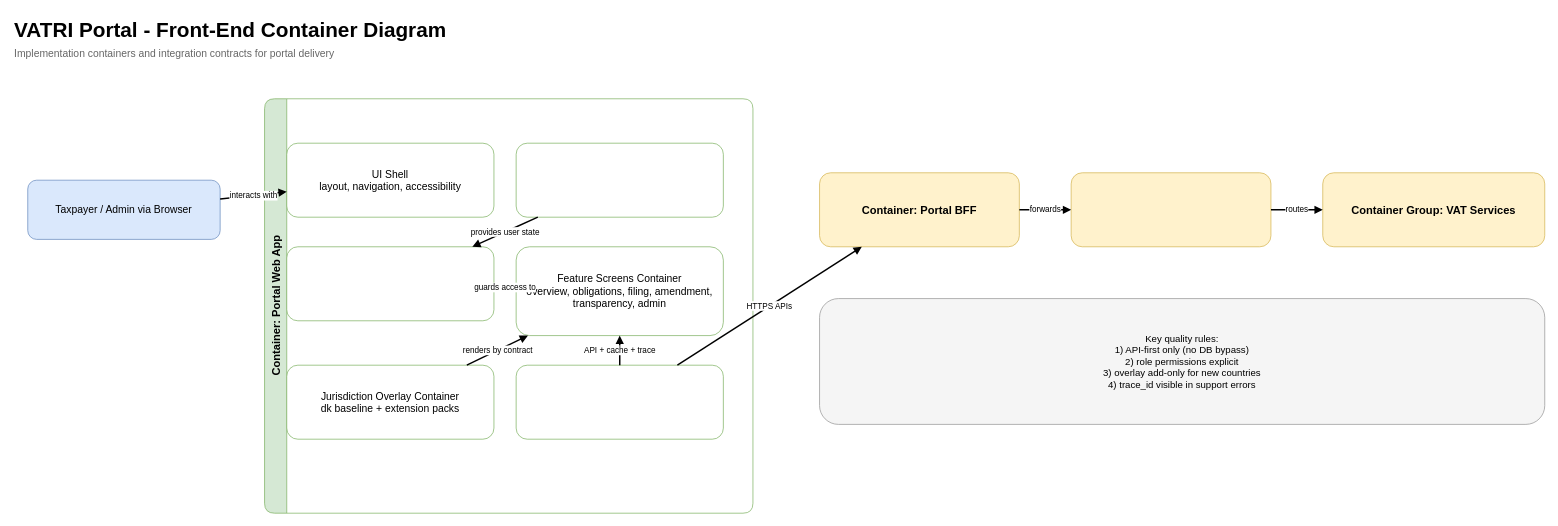
This 1558x526 diagram has some shape labels left out. Here are the shapes that lost their labels. From the top down, the centre of each, then its label:
At point (619, 179): "Auth + Session Container login/logout/refresh/me".
At point (1170, 209): "Container: API Gateway".
At point (390, 283): "Route Guard Container role policy: admin/taxpayer".
At point (619, 401): "Data + Telemetry Container TanStack Query, API adapter, trace headers".
